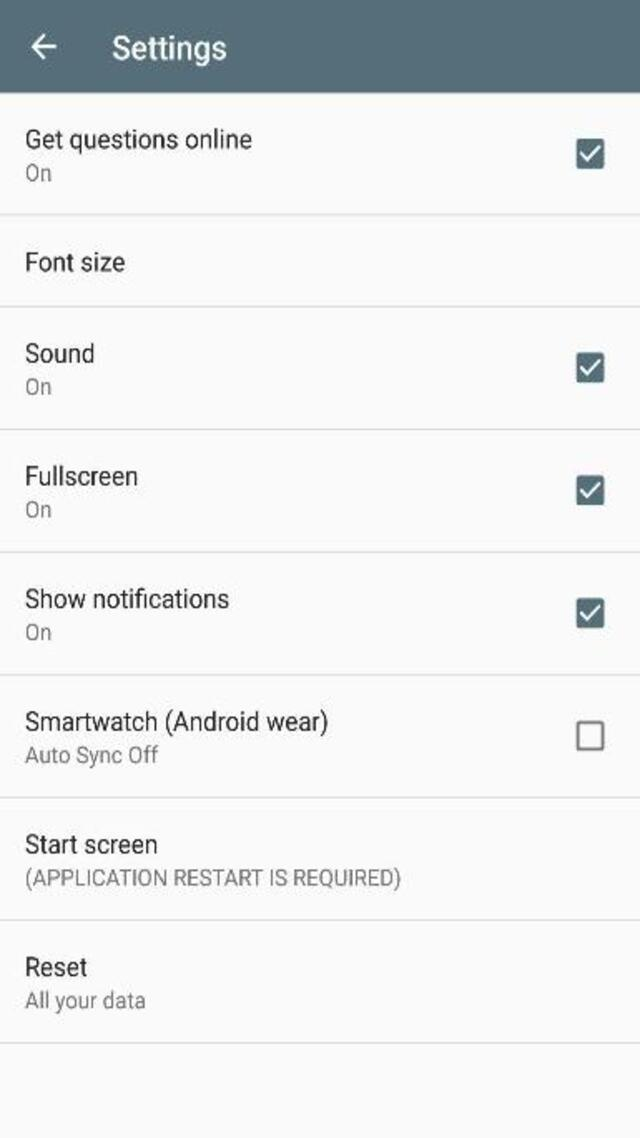CheckedTextView: (576, 137, 604, 169), (576, 720, 604, 750), (576, 598, 604, 628), (576, 476, 604, 506), (576, 353, 604, 383)
Icon: (29, 32, 56, 60)
Text: (25, 866, 401, 891), (25, 710, 328, 738), (25, 128, 251, 153), (25, 587, 228, 608), (113, 34, 226, 66), (25, 744, 161, 767), (24, 989, 146, 1014), (26, 833, 157, 854), (26, 464, 137, 486), (26, 251, 124, 272), (26, 343, 94, 364), (26, 957, 88, 978), (24, 500, 52, 518), (26, 621, 50, 641), (26, 162, 50, 182), (26, 377, 50, 395)
